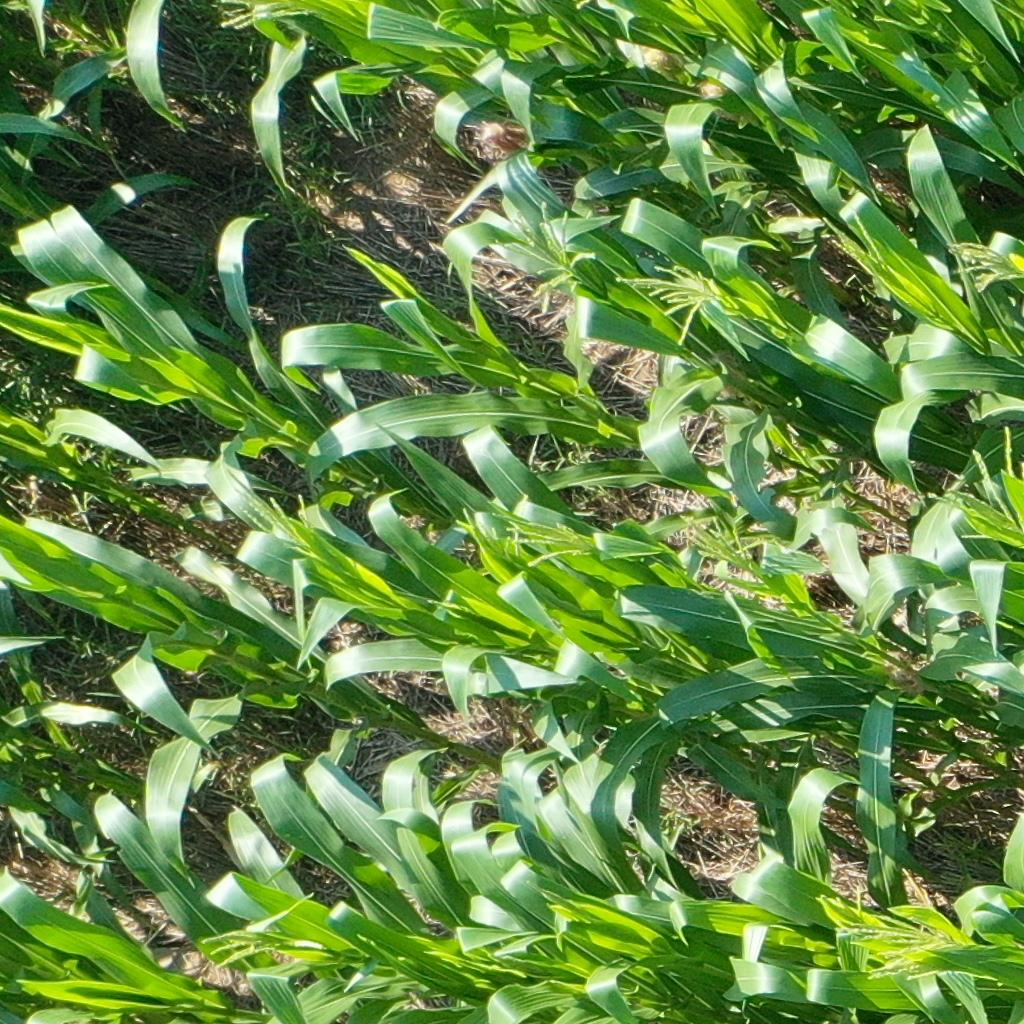Tassel: (825, 867, 963, 984), (923, 425, 1024, 548), (500, 195, 600, 314), (613, 255, 737, 348), (221, 468, 320, 558), (481, 500, 603, 573), (673, 510, 770, 587), (818, 204, 889, 275), (941, 238, 1024, 291), (195, 925, 273, 974), (214, 1, 310, 33)
